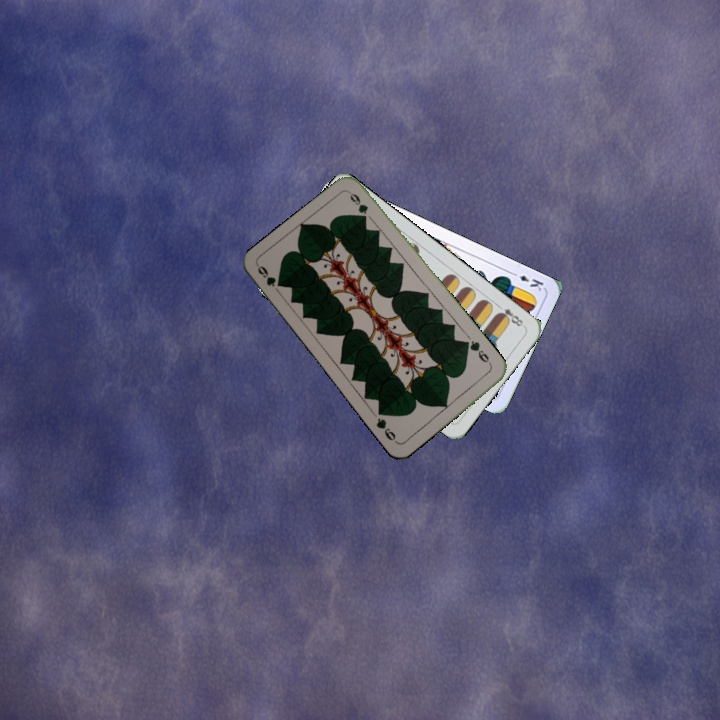E8: (493, 300, 526, 329)
EK: (507, 268, 546, 294)
G9: (462, 336, 494, 369), (253, 262, 284, 290)
